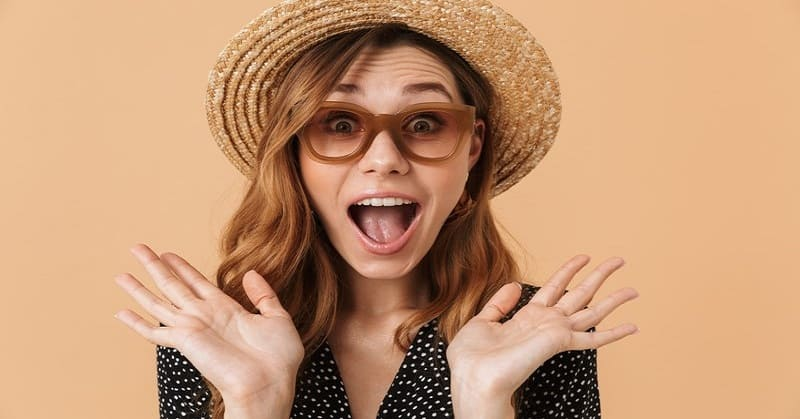human: (101, 1, 655, 419)
